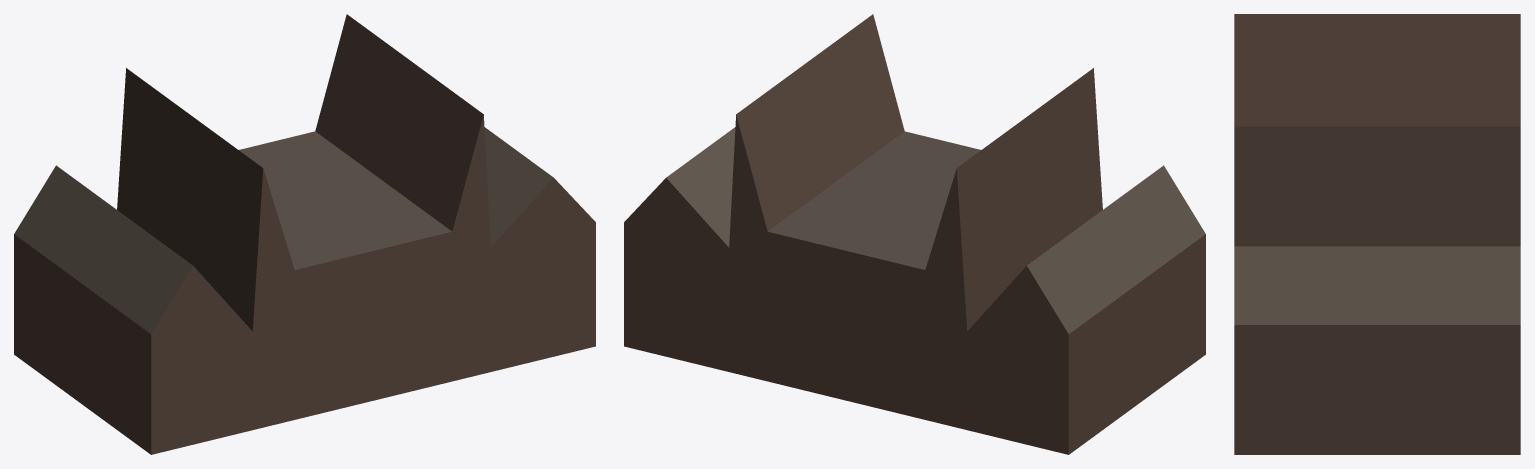
File: bg_industrial_factory_2_lod2.glb
The picture shows the model from 3 angles, left to right: view 1: azimuth 30°, elevation 25°; view 2: azimuth 150°, elevation 25°; view 3: azimuth 270°, elevation 25°; orthographic projection. The views are drawn at different scales.
Parts seen in each view (by area): view 1: body; view 2: body; view 3: body.
Part boxes in pixels (bbox=[...]): body: bbox=[14, 14, 595, 454]; body: bbox=[624, 14, 1205, 454]; body: bbox=[1234, 14, 1520, 454].
Size of the model in its own units: 12 by 6.69 by 6.41.
